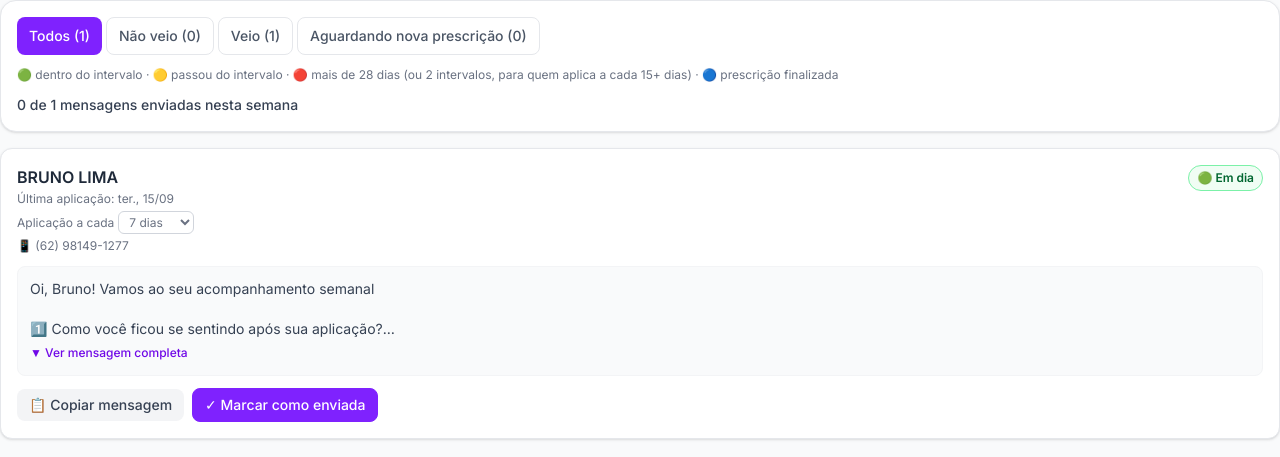
Test: EmTratamento › mostra mensagem própria quando a sub-aba está vazia
Click the button "Não veio (0)" at [160, 36], box [106,17,214,55]
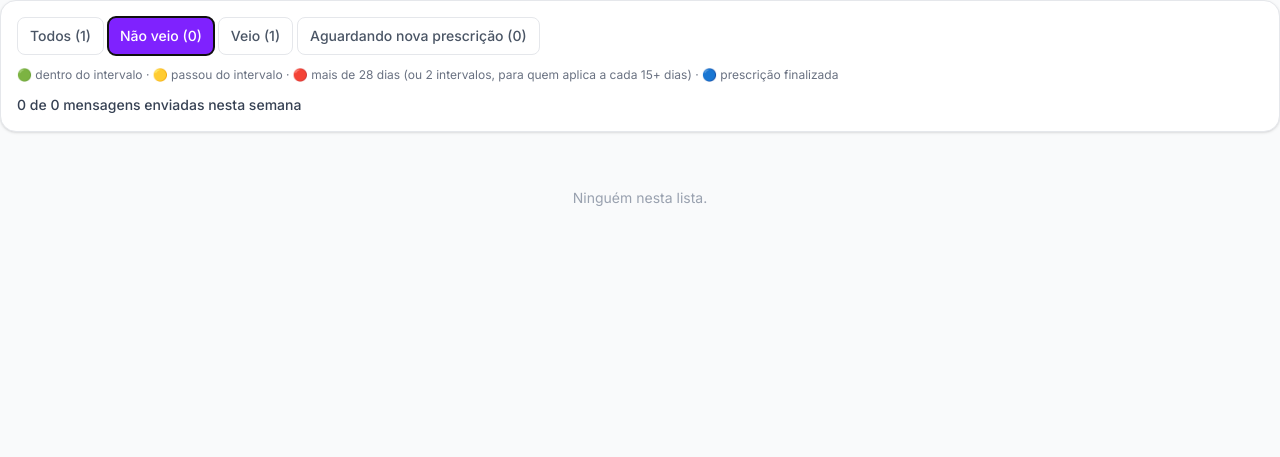
Check: the text "Ninguém nesta lista." is shown, box [573,189,707,206]
